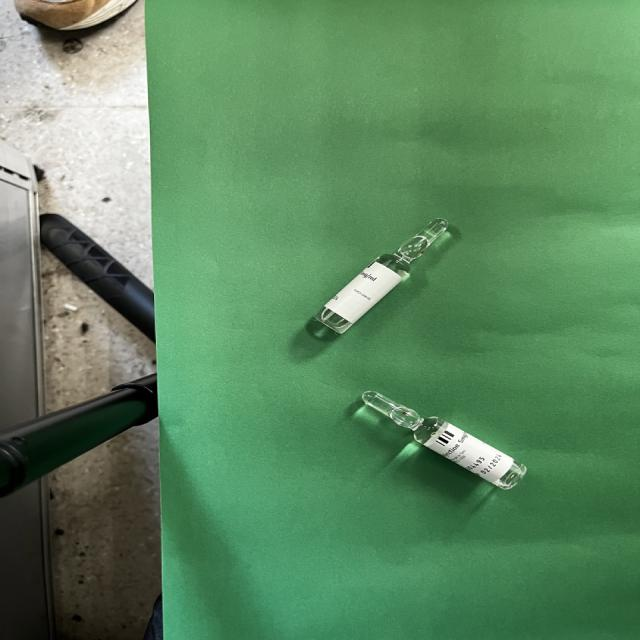Ampoules: (361, 390, 526, 490), (311, 218, 448, 334)
